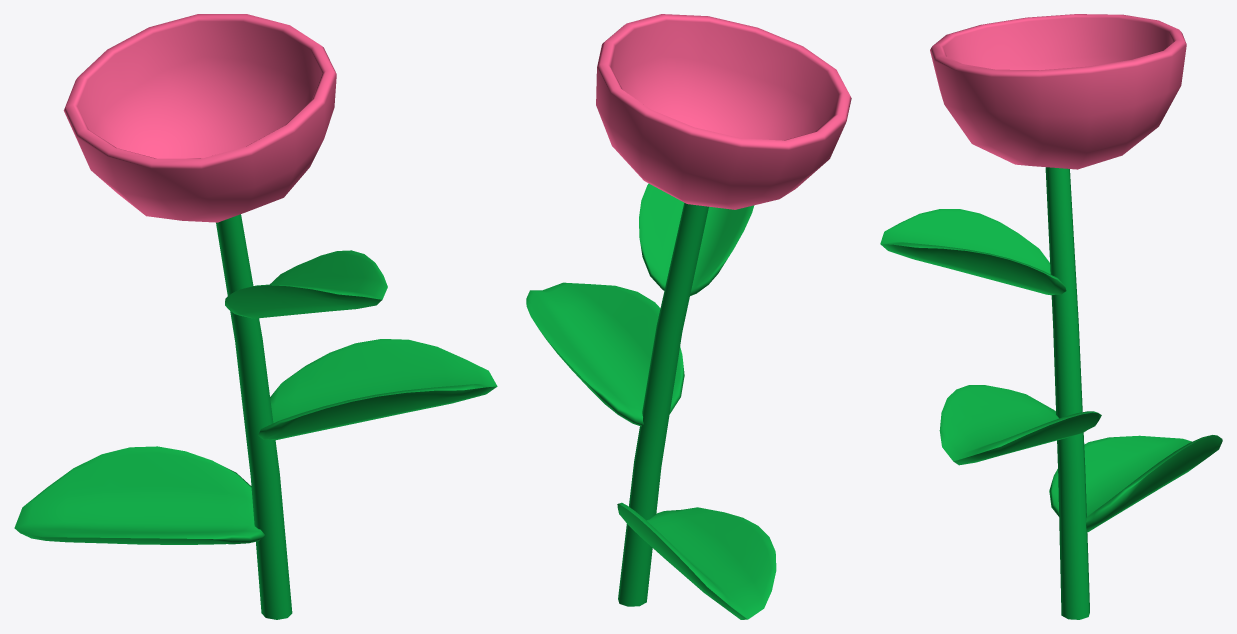
File: Town_10_Flower_2.glb
3 views of the same model, side by side, from view 1: azimuth 30°, elevation 25°; view 2: azimuth 150°, elevation 25°; view 3: azimuth 270°, elevation 25° (orthographic). The views are drawn at different scales.
Parts seen in each view (by area): view 1: Town_10_Flower_2; view 2: Town_10_Flower_2; view 3: Town_10_Flower_2.
Boxes of the visible parts, x1,y1,x2,y2 form: Town_10_Flower_2: (14, 14, 497, 619); Town_10_Flower_2: (526, 14, 851, 619); Town_10_Flower_2: (880, 14, 1222, 619).
Size of the model in its own units: 0.5897 by 0.9084 by 0.5087.
1 material, 1 textured.
